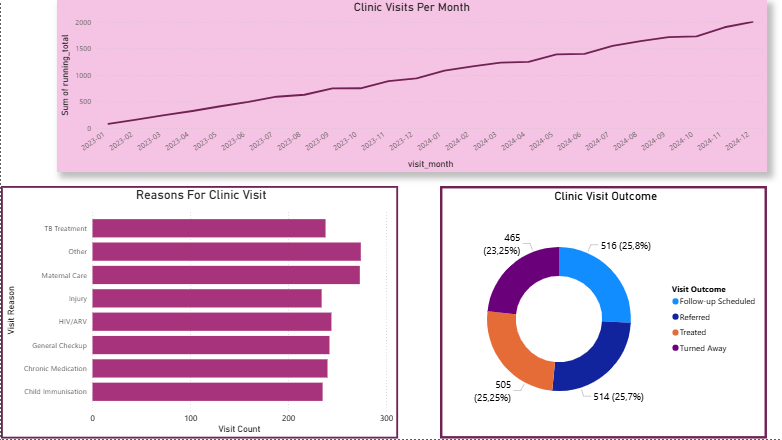

What the dashboard file says about the page in this screenshot:
{"tool":"powerbi","page":{"name":"Patient Impact","canvas":[1280,720],"ordinal":2},"visuals":[{"type":"lineChart","title":"Clinic Visits Per Month","fields":{"Y":["Sum(vw_MonthlyPatientVolume.running_total)"],"Category":["vw_MonthlyPatientVolume.visit_month"]},"box":[91.7,0,1163.6,282.1],"z":0},{"type":"donutChart","title":"Clinic Visit Outcome","fields":{"Category":["visits.visit_outcome"],"Y":["CountNonNull(visits.visit_id)"]},"box":[719.3,305,536,414.3],"z":1000},{"type":"clusteredBarChart","title":"Reasons For Clinic Visit","fields":{"Category":["visits.visit_reason"],"Y":["CountNonNull(visits.visit_id)"]},"box":[0,305,650.6,414.3],"z":2000}]}

Visuals, with their boxes in screenshot pixels (x1, y1, x2, y2), scaled from the page's 1280x720 canvas onto the 782x440 screenshot:
"Clinic Visits Per Month" lineChart: (left=56, top=0, right=767, bottom=172)
"Clinic Visit Outcome" donutChart: (left=439, top=186, right=767, bottom=439)
"Reasons For Clinic Visit" clusteredBarChart: (left=0, top=186, right=397, bottom=439)
